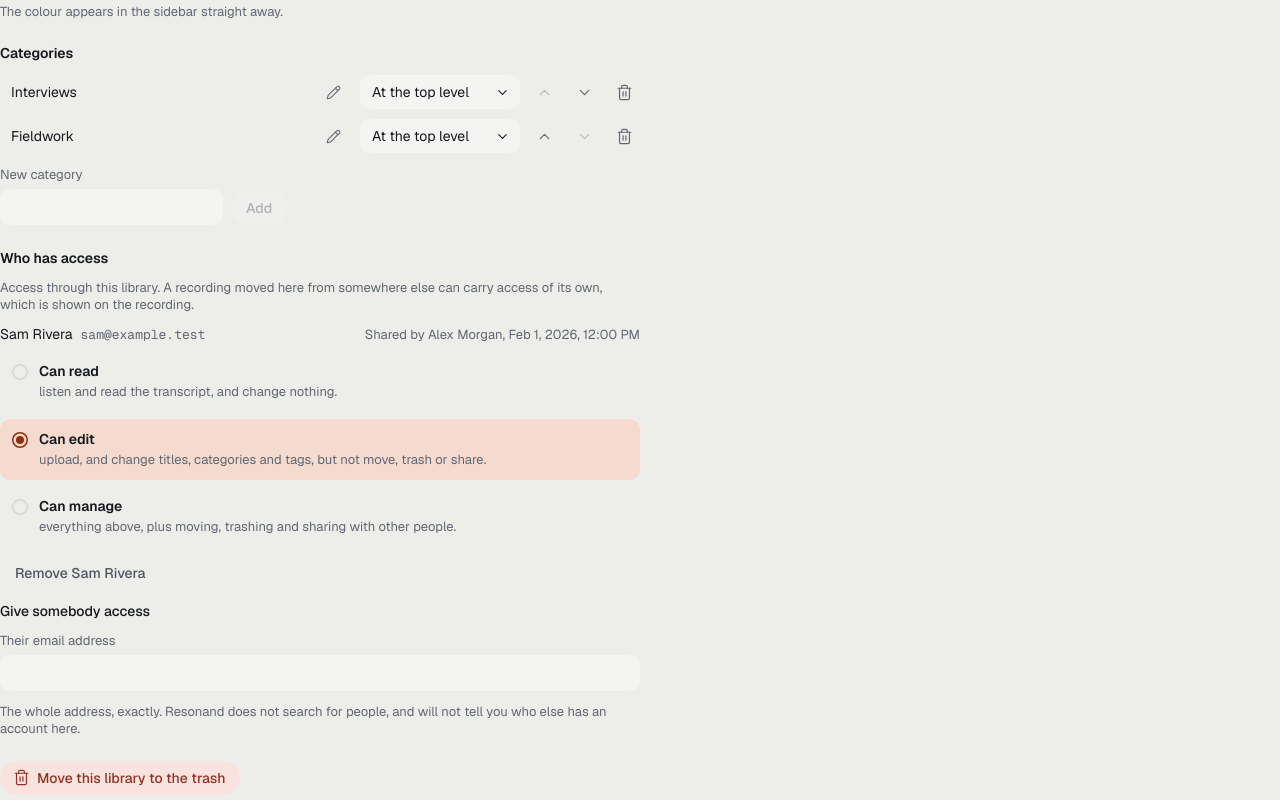
Test case: trashing a library › counts what goes with it and says how long it can come back
(page scrolled)
Click the button "Move this library to the trash" at (120, 778), box [0,761,240,795]
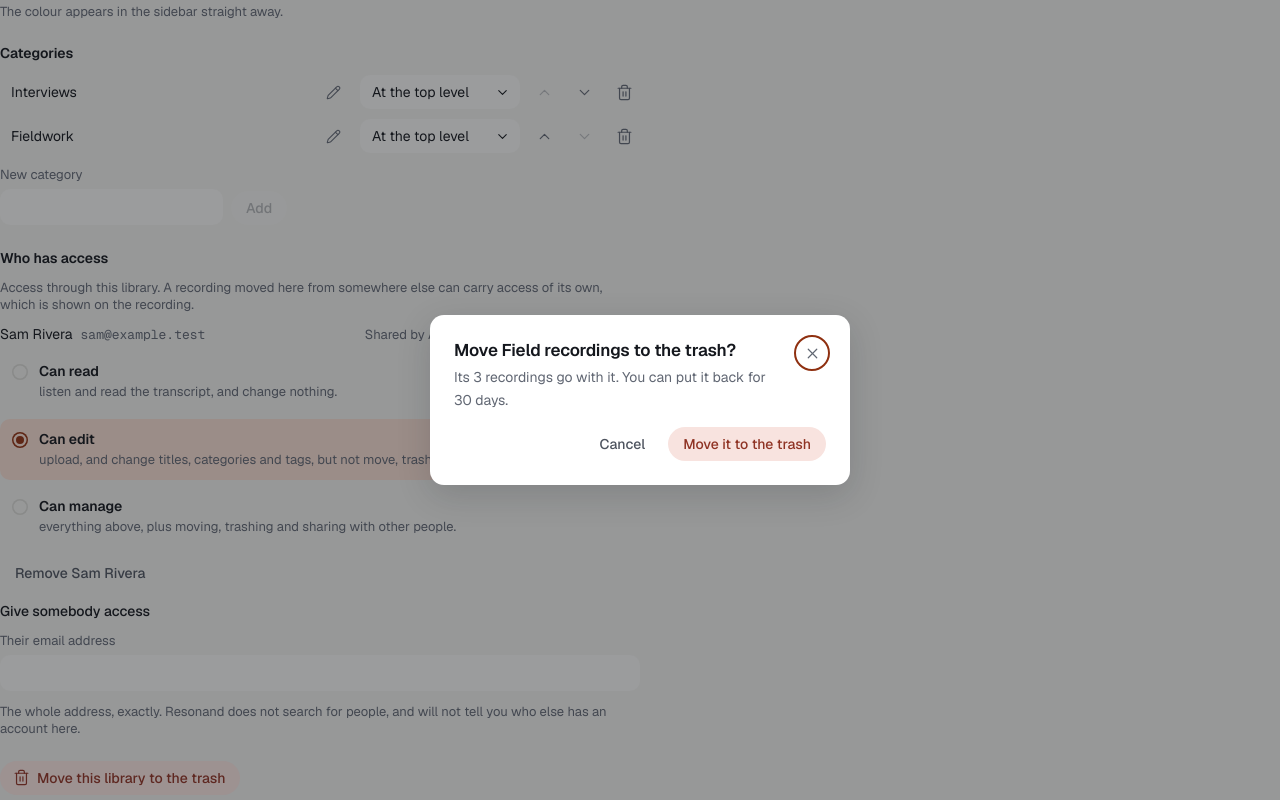
expect the text "put it back for 30 days" is shown: met, box [454,368,766,408]
